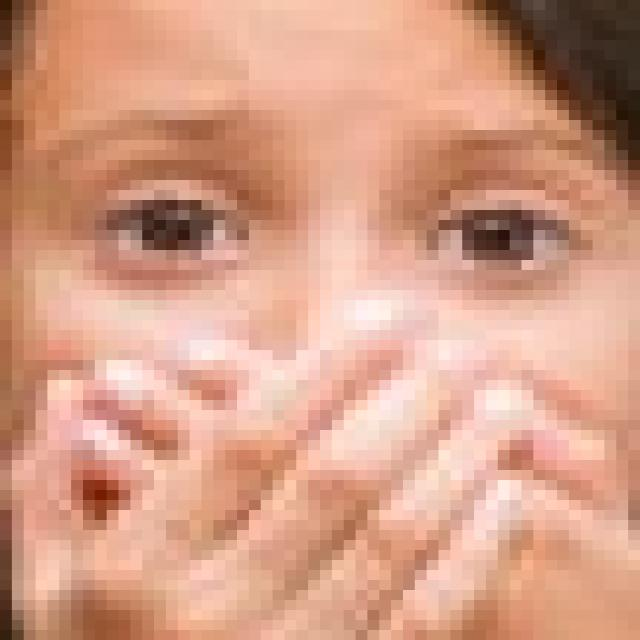Anxiety: (0, 0, 628, 630)
